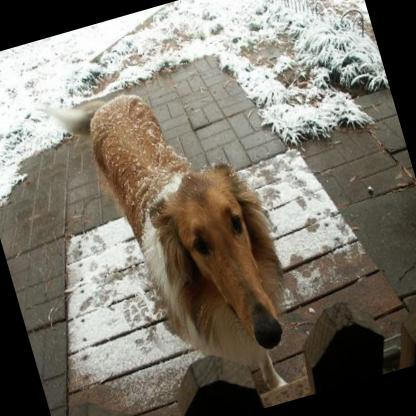collie: (35, 52, 316, 416)
